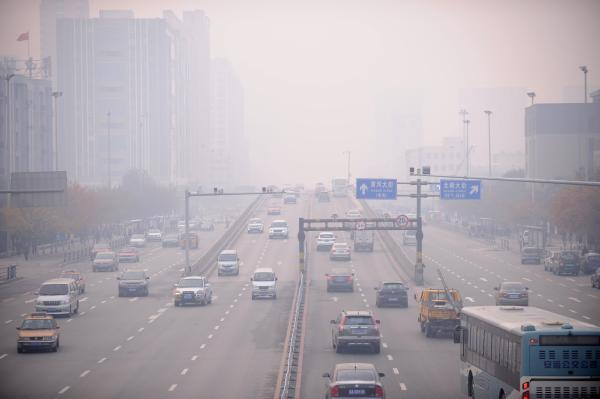bus: (454, 304, 599, 399), (352, 222, 375, 252), (331, 176, 347, 197)
car: (320, 363, 388, 399), (330, 311, 382, 355), (32, 278, 80, 318), (13, 312, 61, 352), (173, 277, 212, 307), (373, 281, 410, 309), (493, 281, 531, 308), (117, 268, 150, 298), (250, 267, 277, 303), (549, 251, 581, 276), (324, 268, 357, 292), (56, 269, 86, 295), (540, 248, 570, 273), (216, 249, 241, 278), (341, 208, 368, 232), (90, 251, 118, 273), (580, 246, 600, 274), (116, 244, 140, 264), (315, 231, 338, 251), (330, 243, 352, 263), (89, 242, 112, 261), (520, 245, 541, 265), (178, 230, 198, 250), (402, 227, 423, 246), (268, 220, 289, 239), (246, 217, 264, 234), (160, 233, 180, 248), (127, 233, 146, 247), (146, 227, 162, 241), (266, 201, 282, 214), (282, 190, 296, 204), (316, 190, 330, 203), (200, 220, 214, 232), (314, 180, 325, 191), (176, 220, 188, 230)
